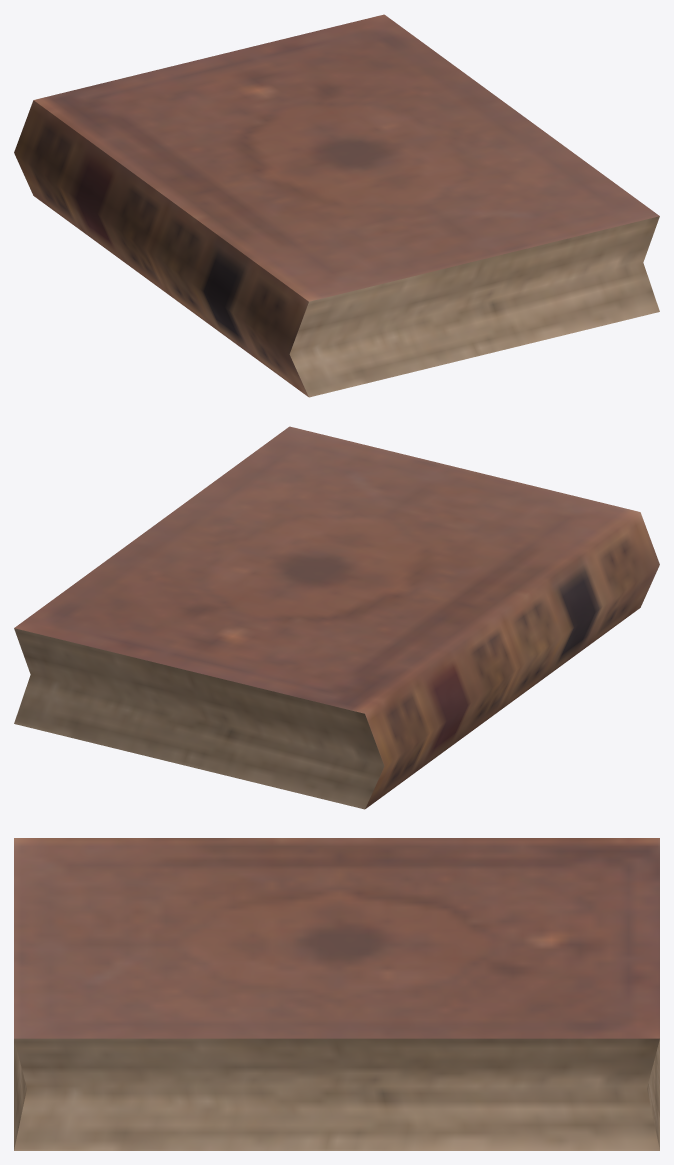
The model's file is Book_A.fbx.
3 renders of one model, top to bottom at view 1: azimuth 30°, elevation 25°; view 2: azimuth 150°, elevation 25°; view 3: azimuth 270°, elevation 25°, orthographic. The views are drawn at different scales.
Parts seen in each view (by area): view 1: Book_A; view 2: Book_A; view 3: Book_A.
Part boxes in pixels (bbox=[...]): Book_A: bbox=[14, 14, 659, 397]; Book_A: bbox=[14, 426, 659, 809]; Book_A: bbox=[14, 838, 659, 1150].
Size of the model in its own units: 0.3727 by 0.092 by 0.4802.
